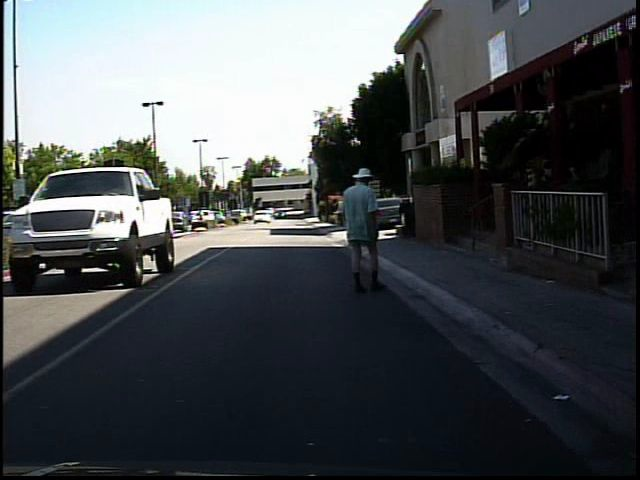person: (334, 163, 393, 297), (38, 198, 66, 266), (194, 203, 210, 228)
